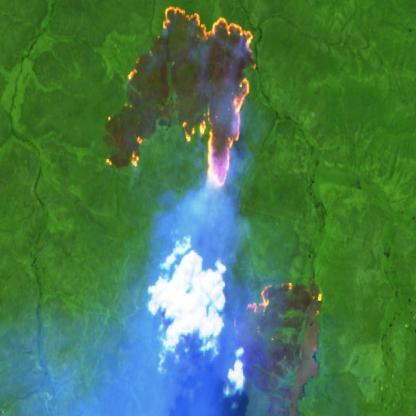fire: (104, 3, 258, 190), (230, 274, 324, 344)
